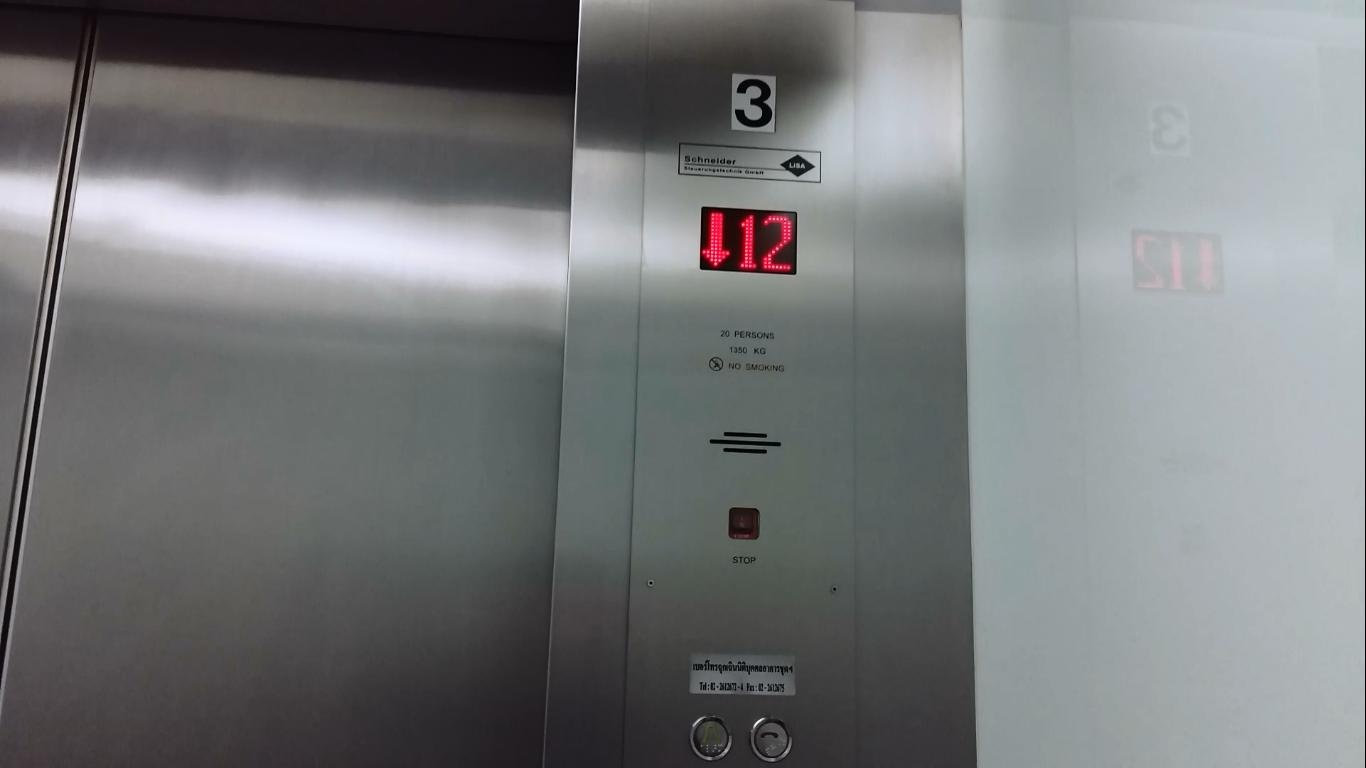alarm: (686, 711, 737, 763)
bt_switch: (725, 504, 762, 543)
call: (745, 713, 796, 765)
led: (696, 200, 800, 279)
